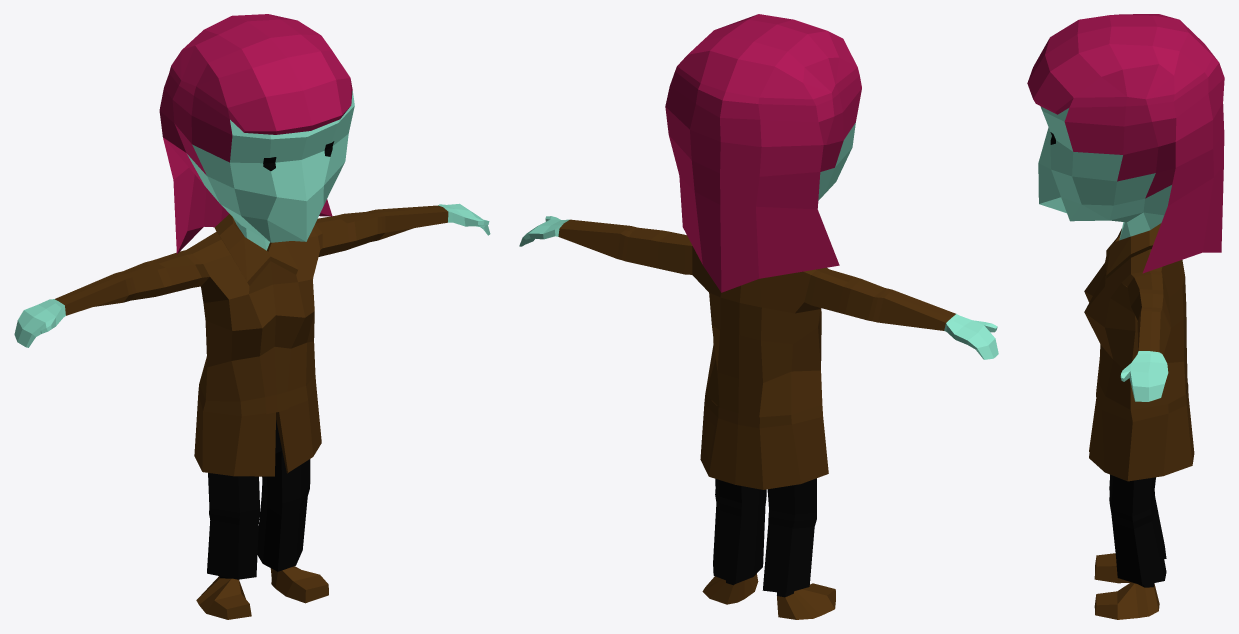
File: Sue_Coat.glb
The picture shows the model from 3 angles, left to right: view 1: azimuth 30°, elevation 25°; view 2: azimuth 150°, elevation 25°; view 3: azimuth 270°, elevation 25°; orthographic projection.
Visible parts, largest first — view 1: Sue; view 2: Sue; view 3: Sue.
Boxes of the visible parts, box(x1,y1,x2,y2) form: Sue: box(14, 14, 490, 619); Sue: box(519, 14, 998, 619); Sue: box(1027, 14, 1224, 619).
Size of the model in its own units: 13.32 by 15.38 by 4.86.
